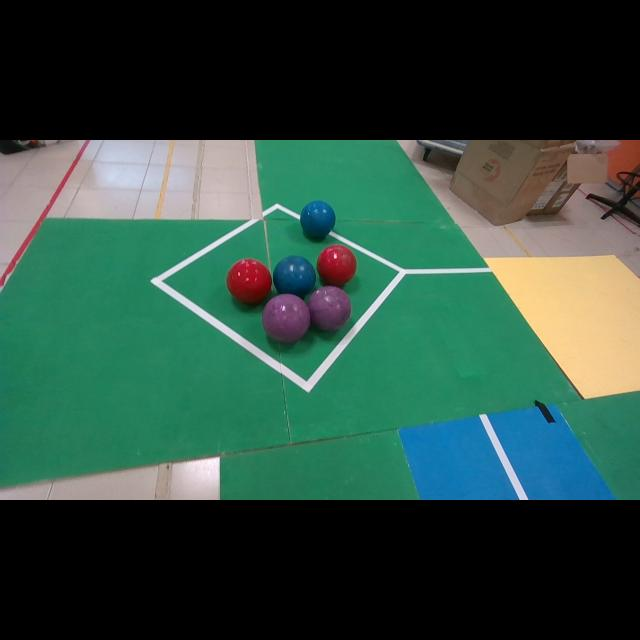B: (272, 255, 315, 297), (300, 200, 335, 240)
P: (262, 294, 310, 342), (308, 285, 351, 331)
R: (228, 260, 271, 304), (318, 245, 356, 286)
